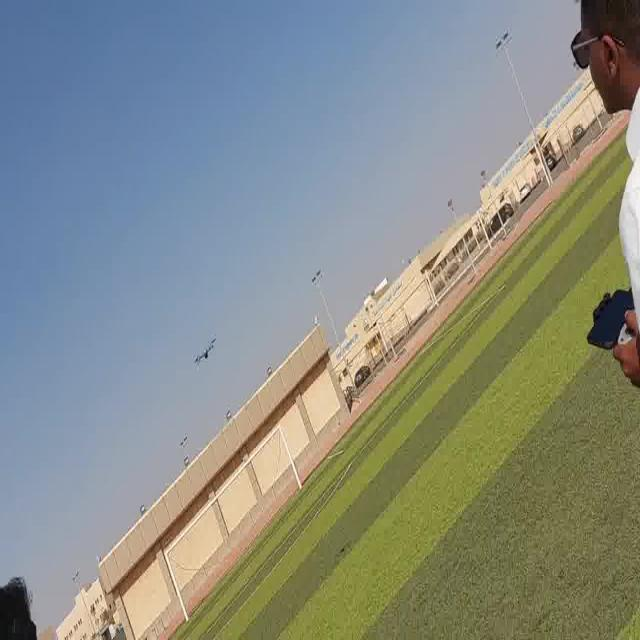drone: (192, 332, 220, 381)
